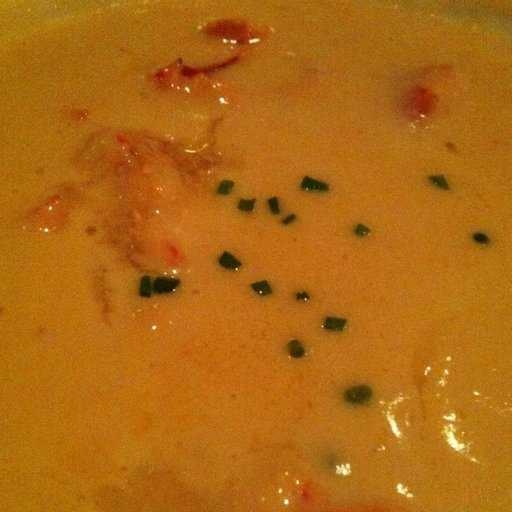soup: (1, 1, 503, 504)
